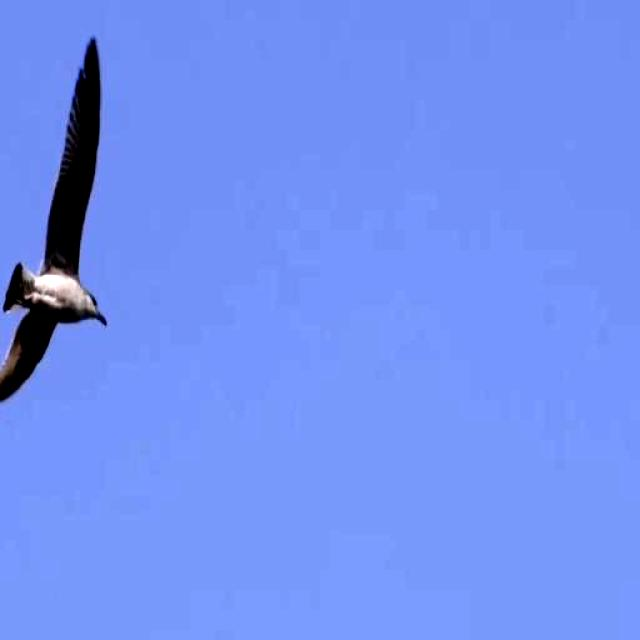airplane: (0, 34, 109, 401)
